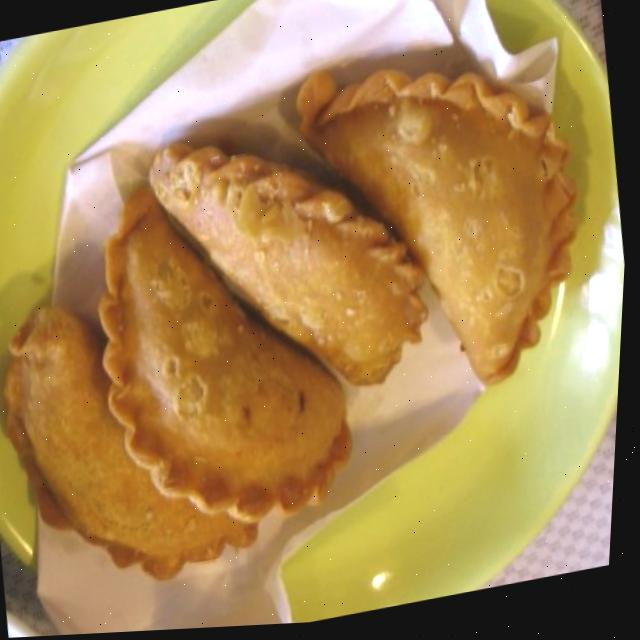炸货点心: (0, 8, 639, 640)
